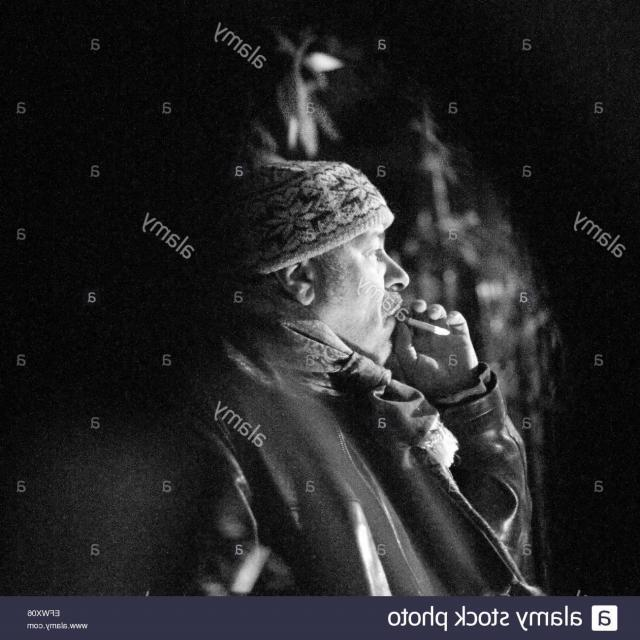cigarette: (383, 306, 456, 344)
